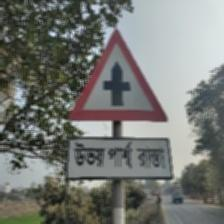Crossroad: (65, 29, 171, 187)
